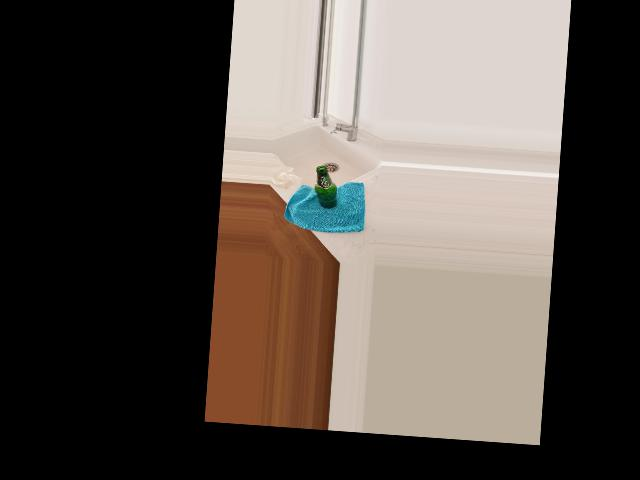beer: (312, 166, 339, 210)
